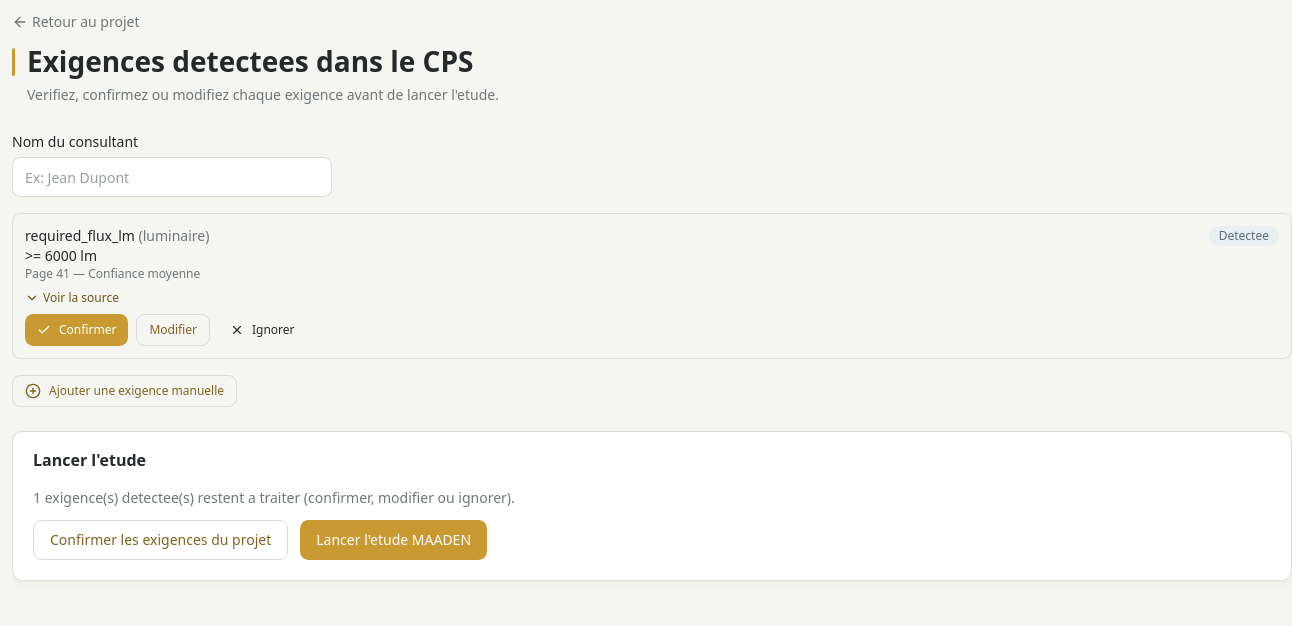
Scenario: ProjectRequirementsPage › exige le nom du consultant avant de confirmer une exigence
Click the button "Confirmer": (77,330) 25,314 -> 128,346
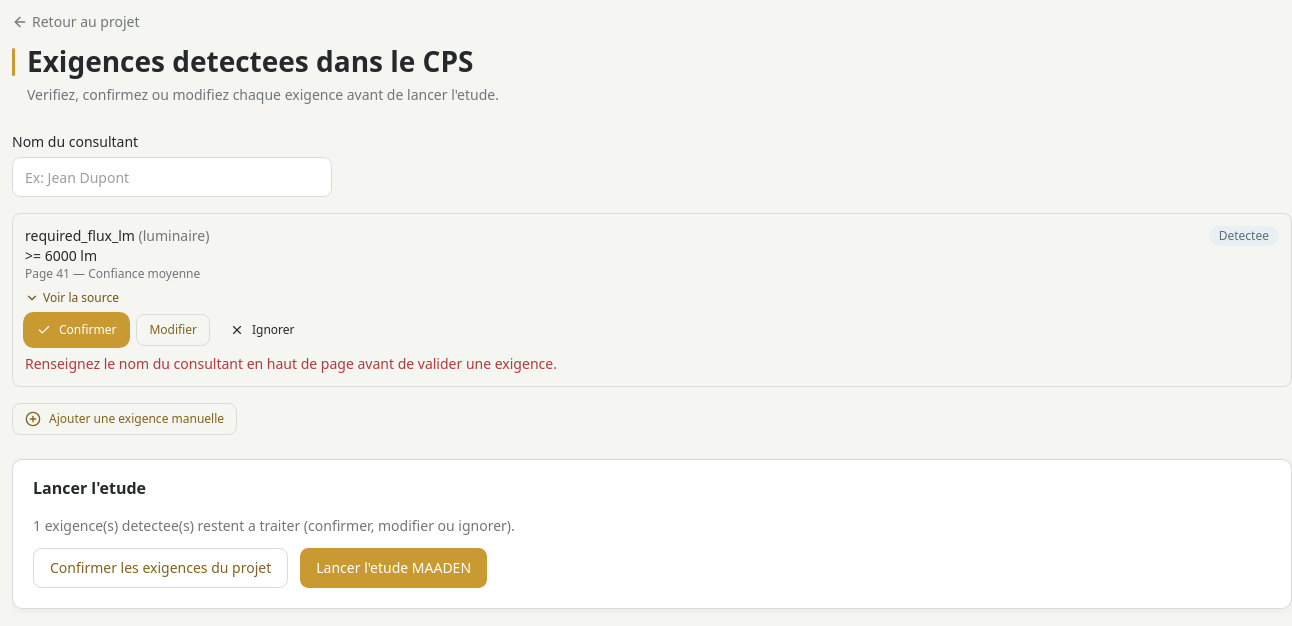
Now the text "Renseignez le nom du consultant" is shown, box 25,354 -> 557,373
